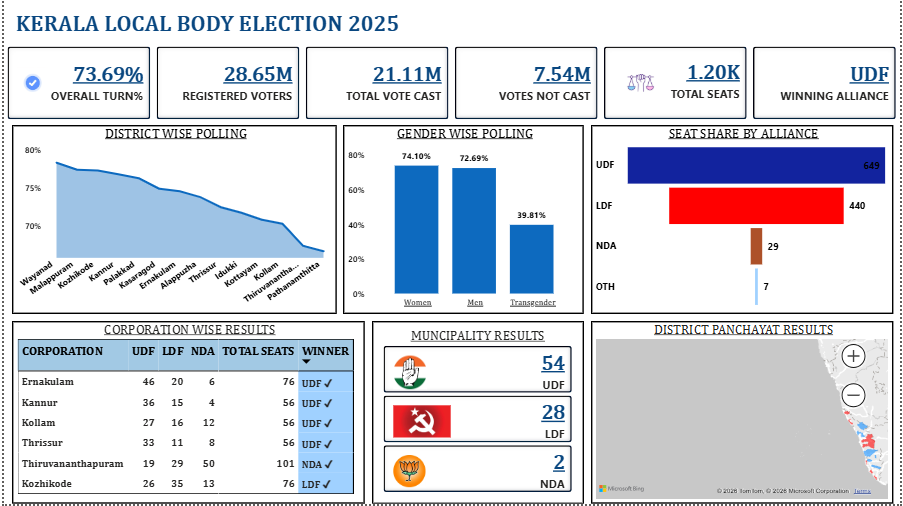

The page's visual inventory and layout, read from the dashboard file:
{"tool":"powerbi","page":{"name":"Page 1","canvas":[1280,720],"ordinal":0},"visuals":[{"type":"shape","box":[525.7,458.6,302.9,261.4],"z":0},{"type":"textbox","box":[11.4,11.4,575.7,50],"z":1000},{"type":"cardVisual","fields":{"Data":["DistrictwisePolling.OverallTurn%","DistrictwisePolling.RegVoters","DistrictwisePolling.TotalVoteCast","DistrictwisePolling.VotesNotCast","Sum(TotalSeats.Total Seats)","SeatShare.Winning Alliance"]},"box":[0,61.4,1280,114.3],"z":2000},{"type":"areaChart","title":"DISTRICT WISE POLLING","fields":{"Category":["DistrictwisePolling.District"],"Y":["Sum(DistrictwisePolling.Turn %)"]},"box":[11,178.9,463.8,269.8],"z":3000},{"type":"funnel","title":"SEAT SHARE BY ALLIANCE","fields":{"Y":["Sum(SeatShare.UDF)","Sum(SeatShare.LDF)","Sum(SeatShare.NDA)","Sum(SeatShare.OTH)"]},"box":[838.2,178.9,432.2,269.8],"z":4000},{"type":"clusteredColumnChart","title":"GENDER WISE POLLING","fields":{"Category":["GenderWise.Gender"],"Y":["Sum(GenderWise.Turn%)"],"Series":["GenderWise.Phase"]},"box":[484.5,178.9,344.1,269.8],"z":5000},{"type":"tableEx","title":"CORPORATION WISE RESULTS","fields":{"Values":["DistrictwisePolling.District","Sum(Corporation.UDF)","Sum(Corporation.LDF)","Sum(Corporation.NDA)","Sum(Corporation.TotalSeats)","Corporation.Winner"]},"box":[12,458.7,504,261.3],"z":6000},{"type":"cardVisual","title":"MUNCIPALITY RESULTS","fields":{"Data":["Muncipality.MUNUDF","Muncipality.MUNLDF","Muncipality.MUNNDA"]},"box":[536.8,469.3,279.4,238.1],"z":7000},{"type":"filledMap","title":"DISTRICT PANCHAYAT RESULTS","fields":{"Category":["DistrictwisePolling.District"],"Series":["DistrictPanchayats.Winner"]},"box":[838,459,432,261],"z":8000}]}

Visuals, with their boxes in screenshot pixels (x1, y1, x2, y2), scaled from the page's 1280x720 canvas onto the 903x506 screenshot:
shape: (x1=371, y1=322, x2=585, y2=505)
textbox: (x1=8, y1=8, x2=414, y2=43)
cardVisual - DistrictwisePolling.OverallTurn% x DistrictwisePolling.RegVoters: (x1=0, y1=43, x2=902, y2=123)
"DISTRICT WISE POLLING" areaChart: (x1=8, y1=126, x2=335, y2=315)
"SEAT SHARE BY ALLIANCE" funnel: (x1=591, y1=126, x2=896, y2=315)
"GENDER WISE POLLING" clusteredColumnChart: (x1=342, y1=126, x2=585, y2=315)
"CORPORATION WISE RESULTS" tableEx: (x1=8, y1=322, x2=364, y2=505)
"MUNCIPALITY RESULTS" cardVisual: (x1=379, y1=330, x2=576, y2=497)
"DISTRICT PANCHAYAT RESULTS" filledMap: (x1=591, y1=323, x2=896, y2=505)
